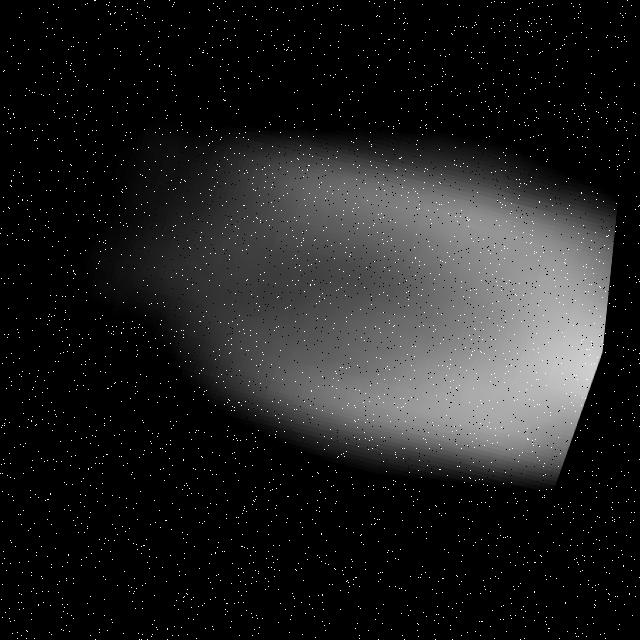person: (56, 85, 634, 522)
